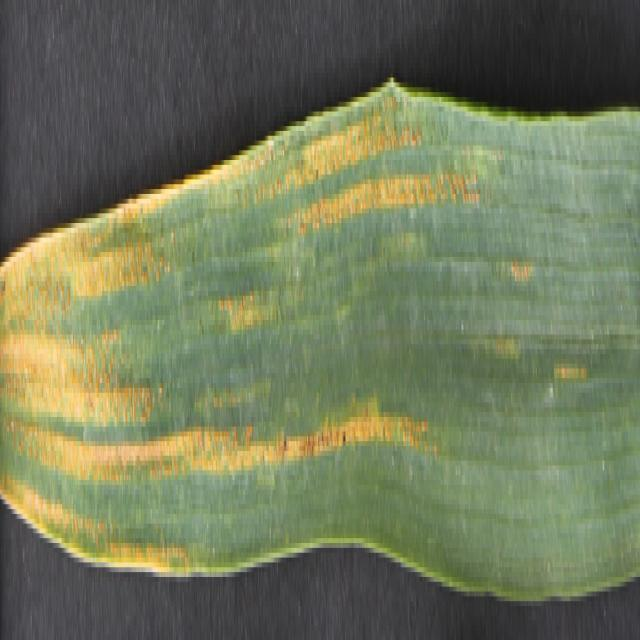leaf rust: (0, 92, 478, 553)
